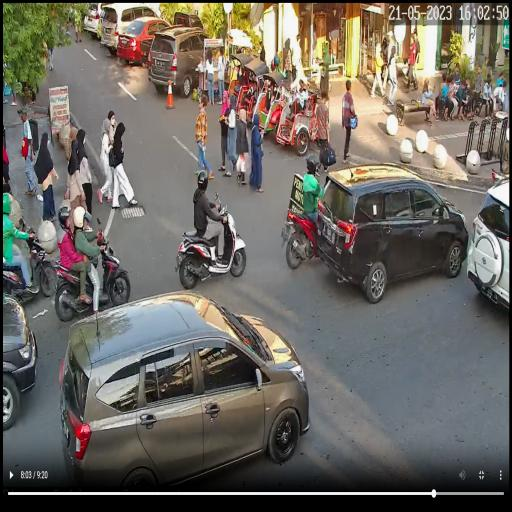mobil: (60, 302, 304, 484), (316, 165, 468, 303), (148, 20, 215, 100), (100, 1, 161, 54), (118, 19, 170, 62)
motor: (49, 227, 132, 322), (175, 188, 246, 291), (2, 225, 52, 313)
